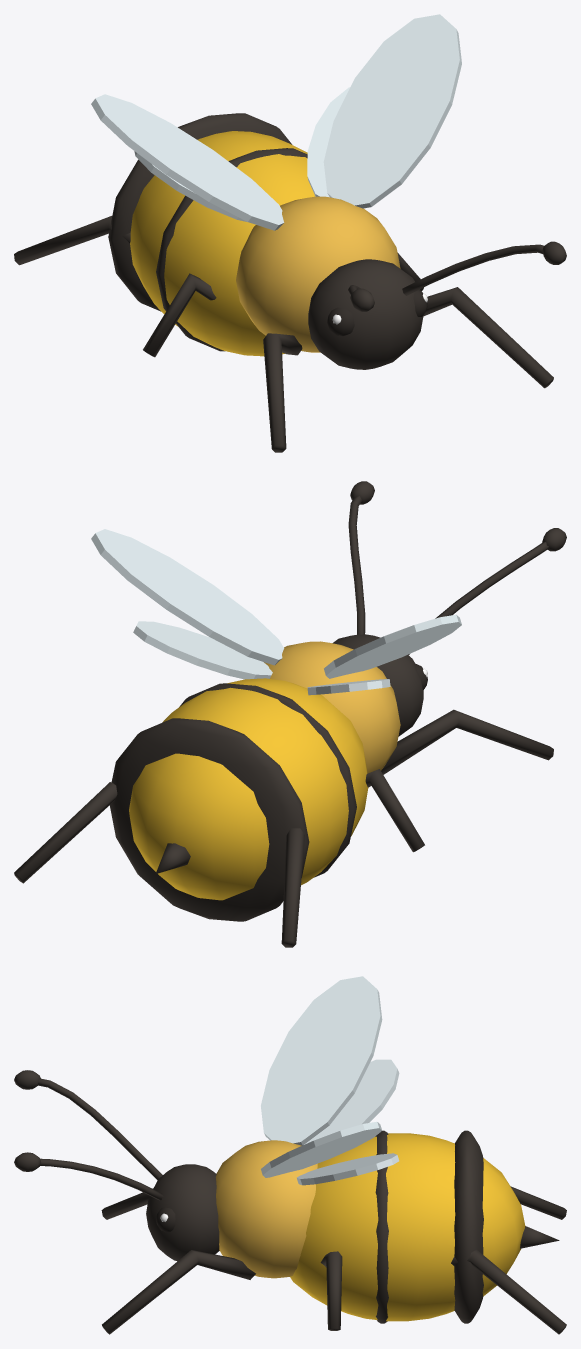
The model's file is bug-honeybee.glb.
3 views of the same model, one above another, from view 1: azimuth 30°, elevation 25°; view 2: azimuth 150°, elevation 25°; view 3: azimuth 270°, elevation 25° (orthographic). The views are drawn at different scales.
Parts seen in each view (by area): view 1: bug; view 2: bug; view 3: bug.
Boxes of the visible parts, <box> form: bug: <box>14,14,566,452</box>; bug: <box>14,481,566,947</box>; bug: <box>14,976,566,1334</box>.
Size of the model in its own units: 0.162 by 0.1301 by 0.2469.
